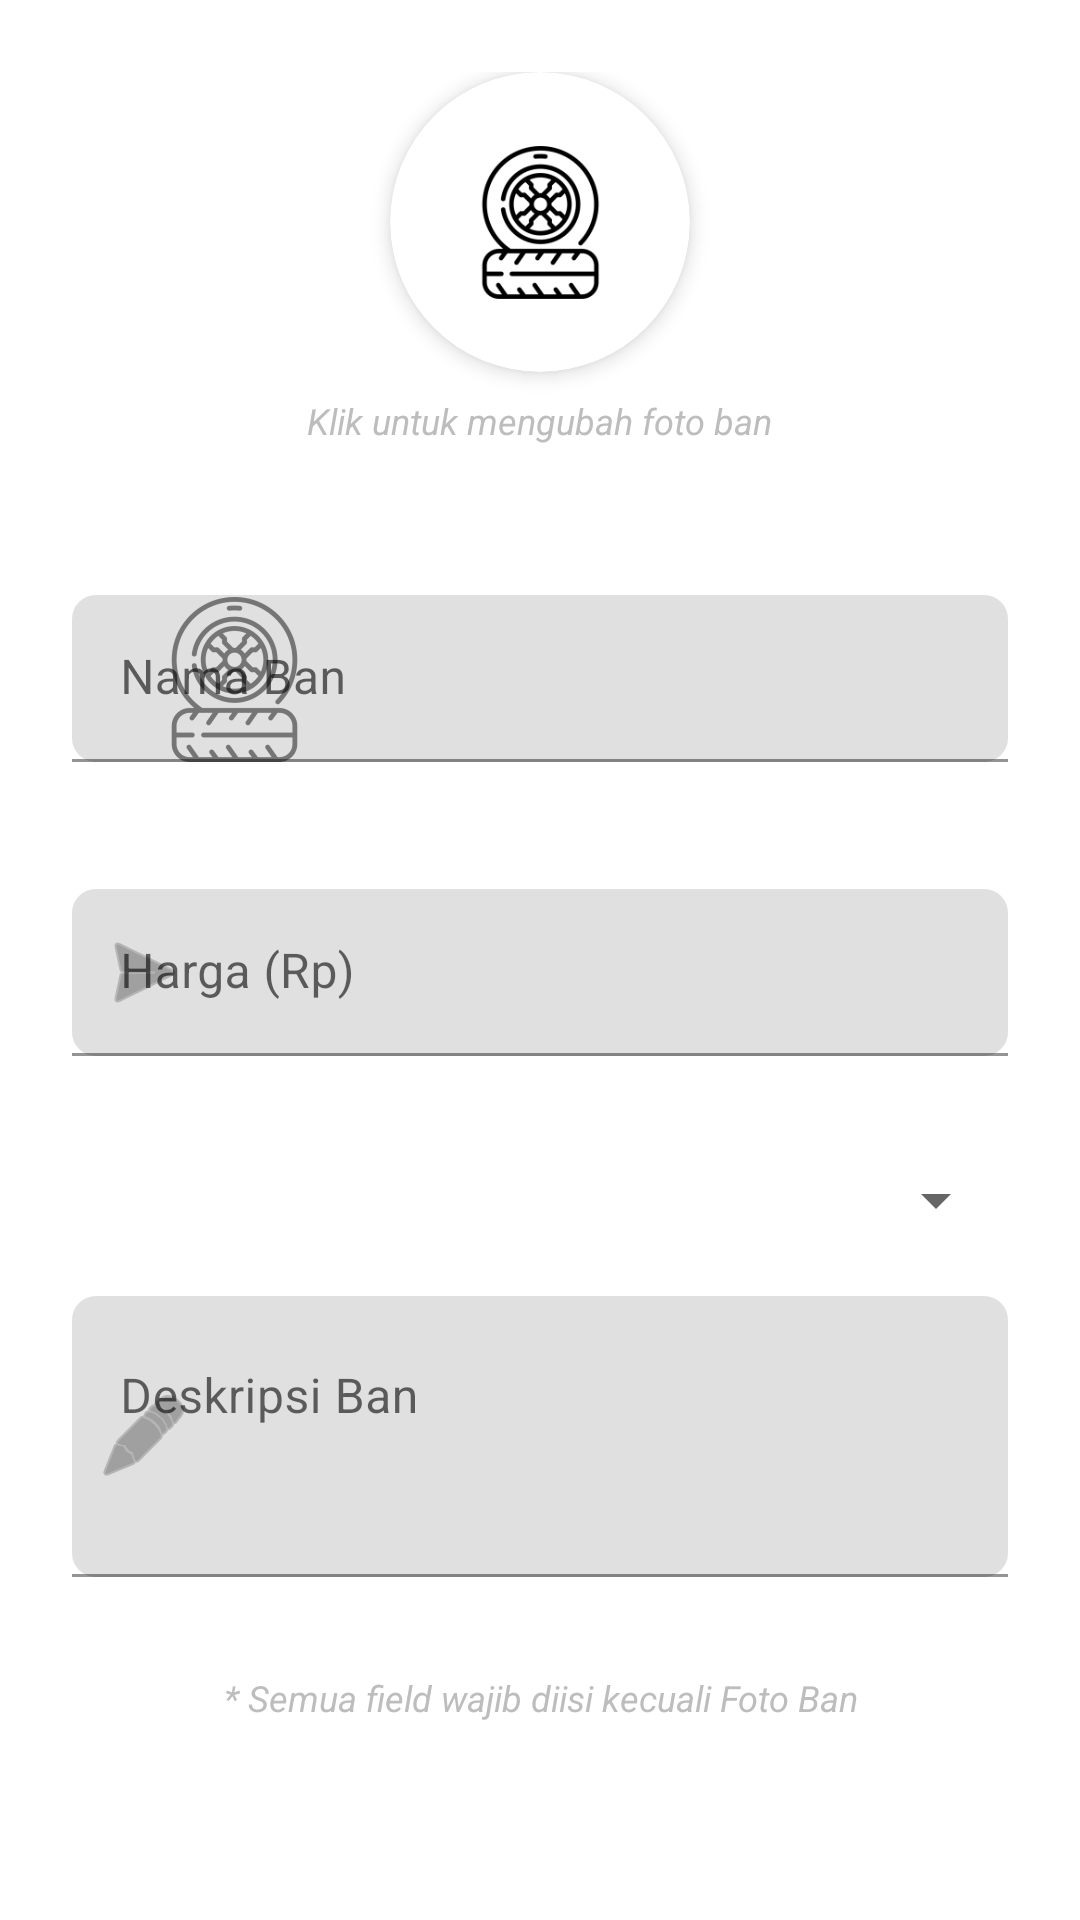

Icon bounding boxes for this 1080x1920 phone screenshot, format (x1, y1, x2, y2):
tire: (419, 146, 661, 372)
